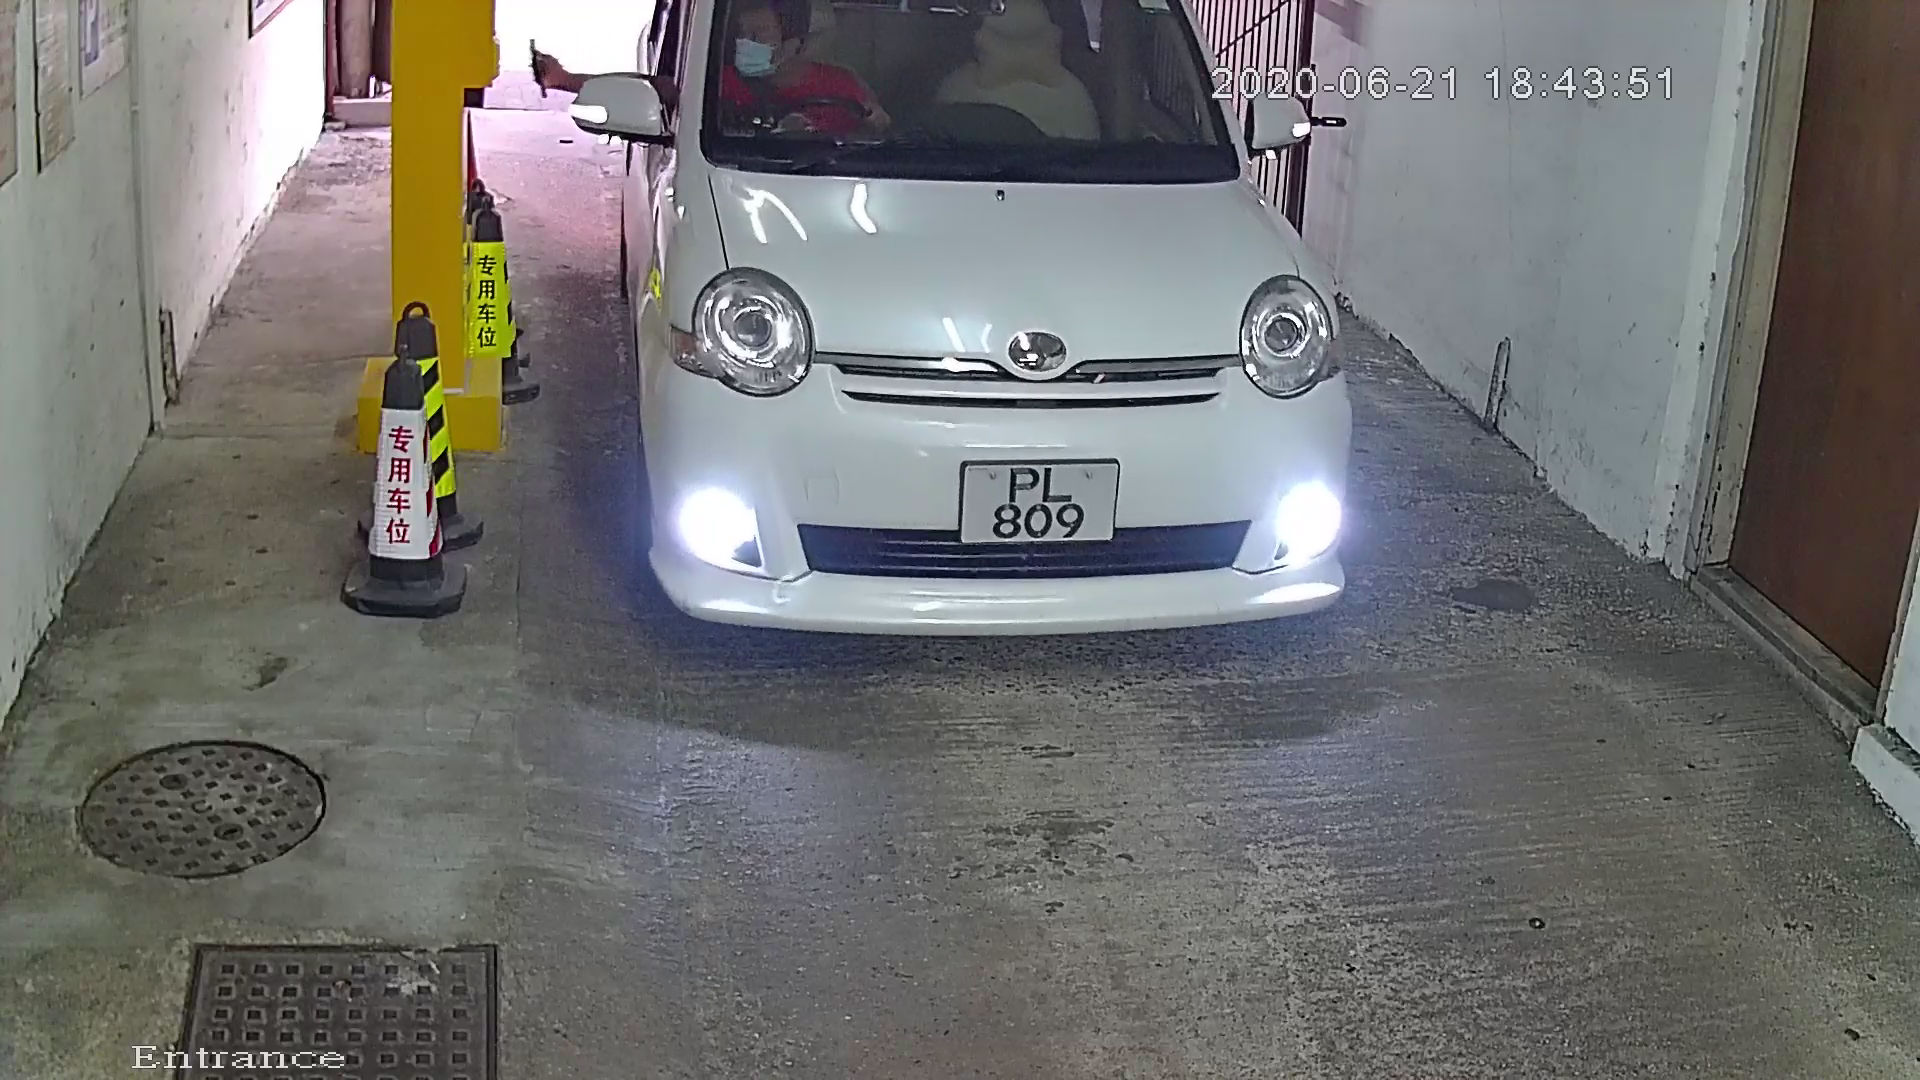privatecar: (525, 1, 1420, 663)
